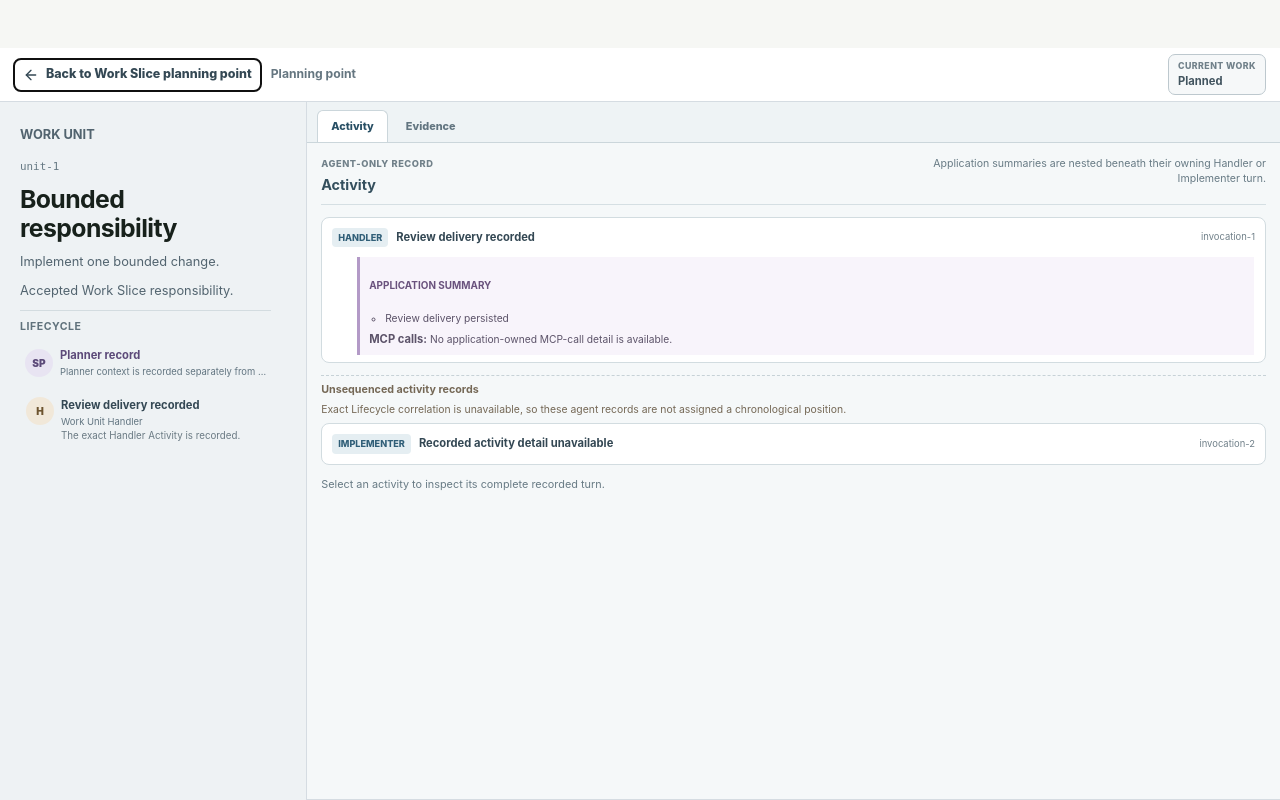
Test case: WorkUnitDetailWorkspace Activity and Evidence › selects exact agent turns, nests application detail, and navigates from Evidence
The width and height of the screenshot is (1280, 800).
Check: the heading "Application summary" is shown, box [369, 279, 491, 291]
Check: the element labelled "Application summary" shows "No application-owned MCP-call detail is available.", box [430, 333, 672, 345]
Click the button "Handler Review delivery recorded invocation-1" at (360, 237), box [329, 224, 1258, 250]
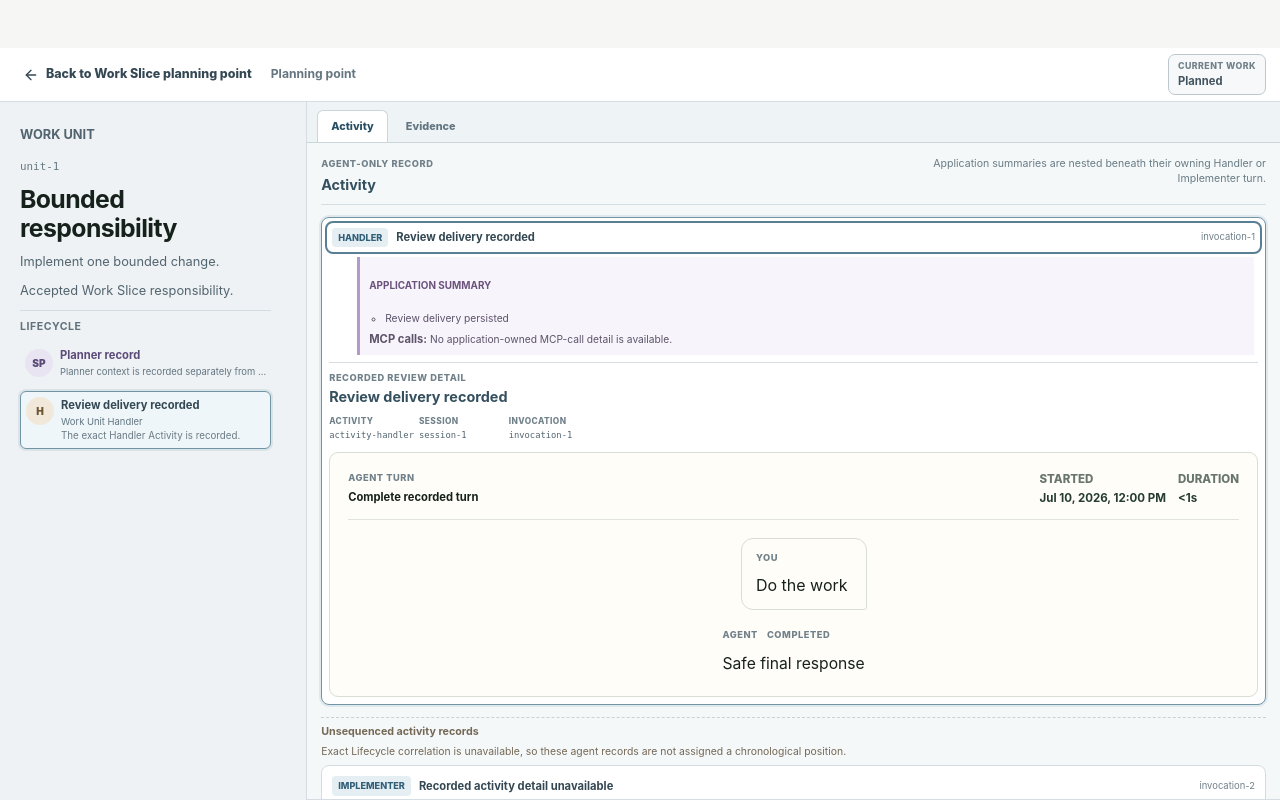
Check: the element named "Agent Session turn: invocation-1" shows "Do the work", box [756, 575, 848, 595]
Check: the element named "Agent Session turn: invocation-1" shows "Safe final response", box [722, 654, 865, 672]
Click the tab "Evidence" at (431, 126), box [392, 110, 470, 142]
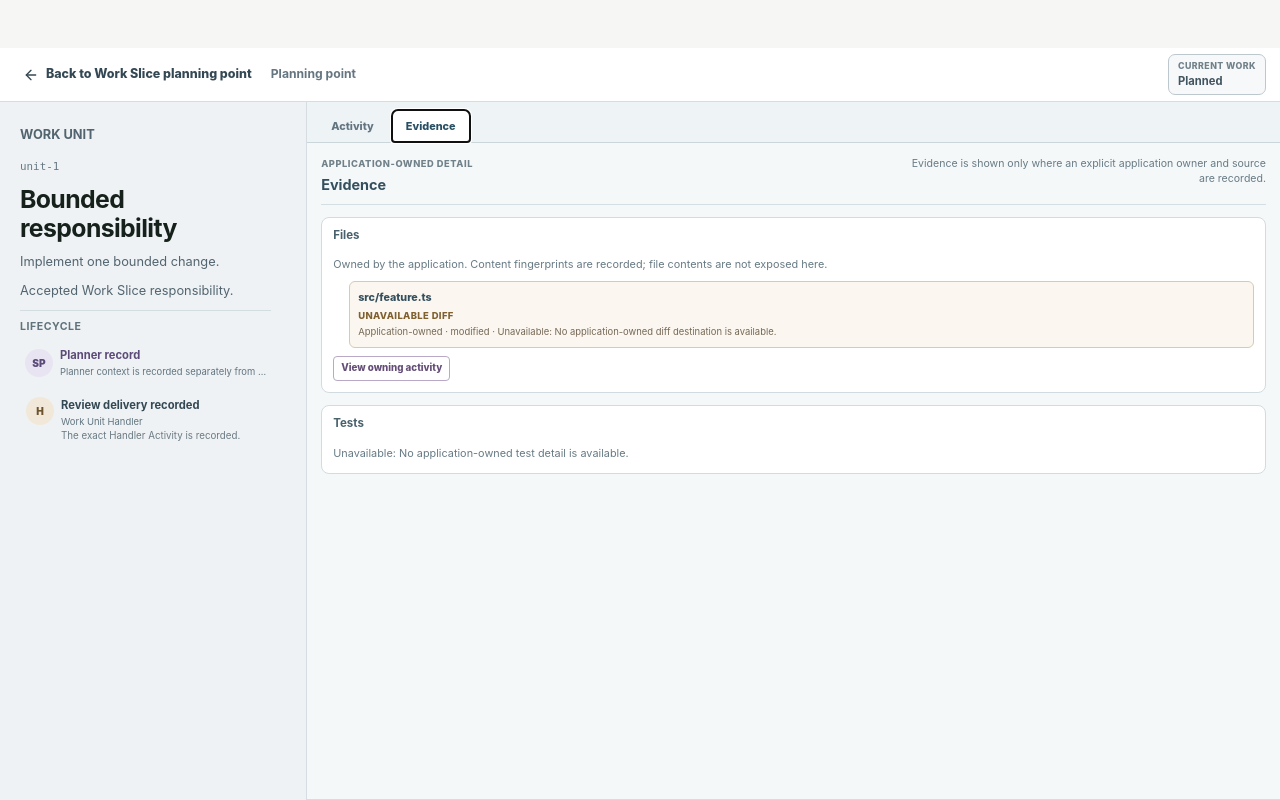
Check: the text "src/feature.ts" is shown, box [358, 291, 432, 304]
Check: the button "Handler Review delivery recorded invocation-1" is gone
Check: the text "Unavailable diff" is shown, box [358, 310, 454, 321]
Click the button "View owning activity" at (392, 369), box [333, 356, 450, 381]
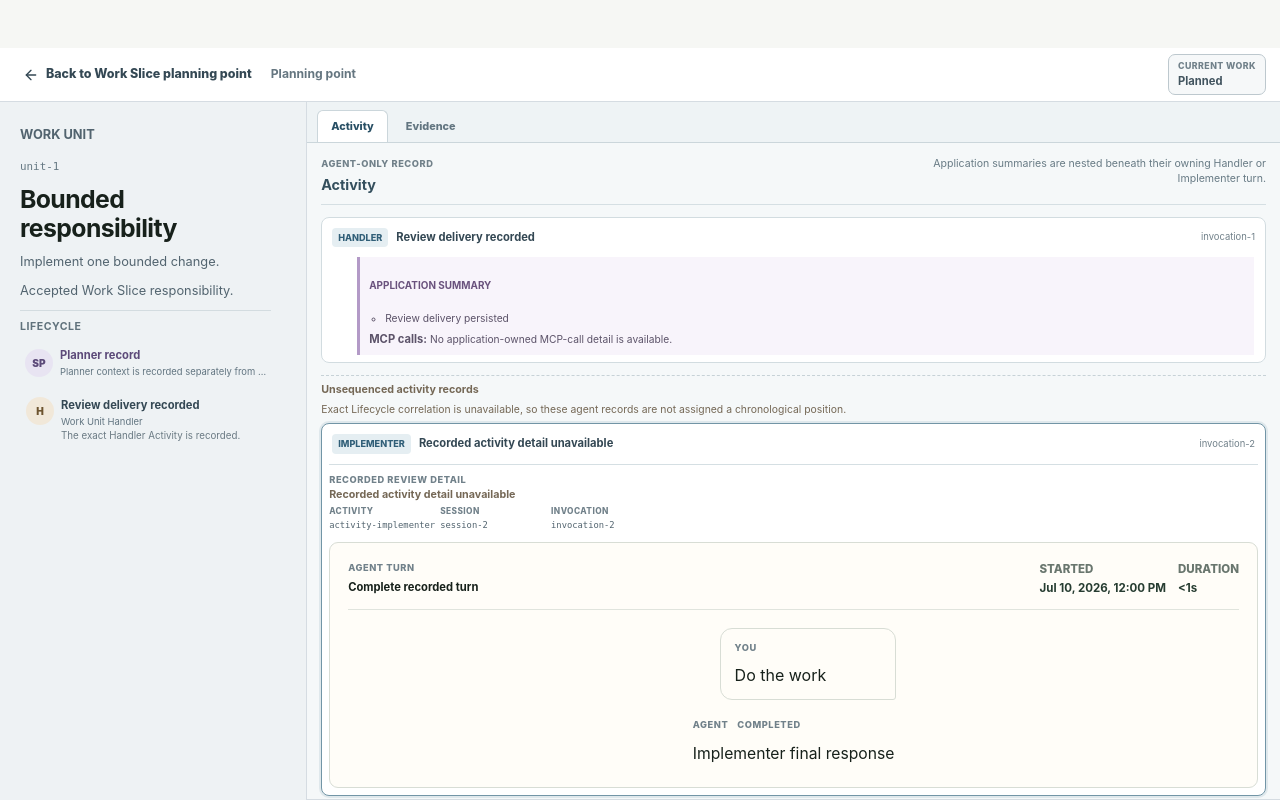
Check: the element named "Agent Session turn: invocation-2" is shown, box [329, 542, 1258, 788]
